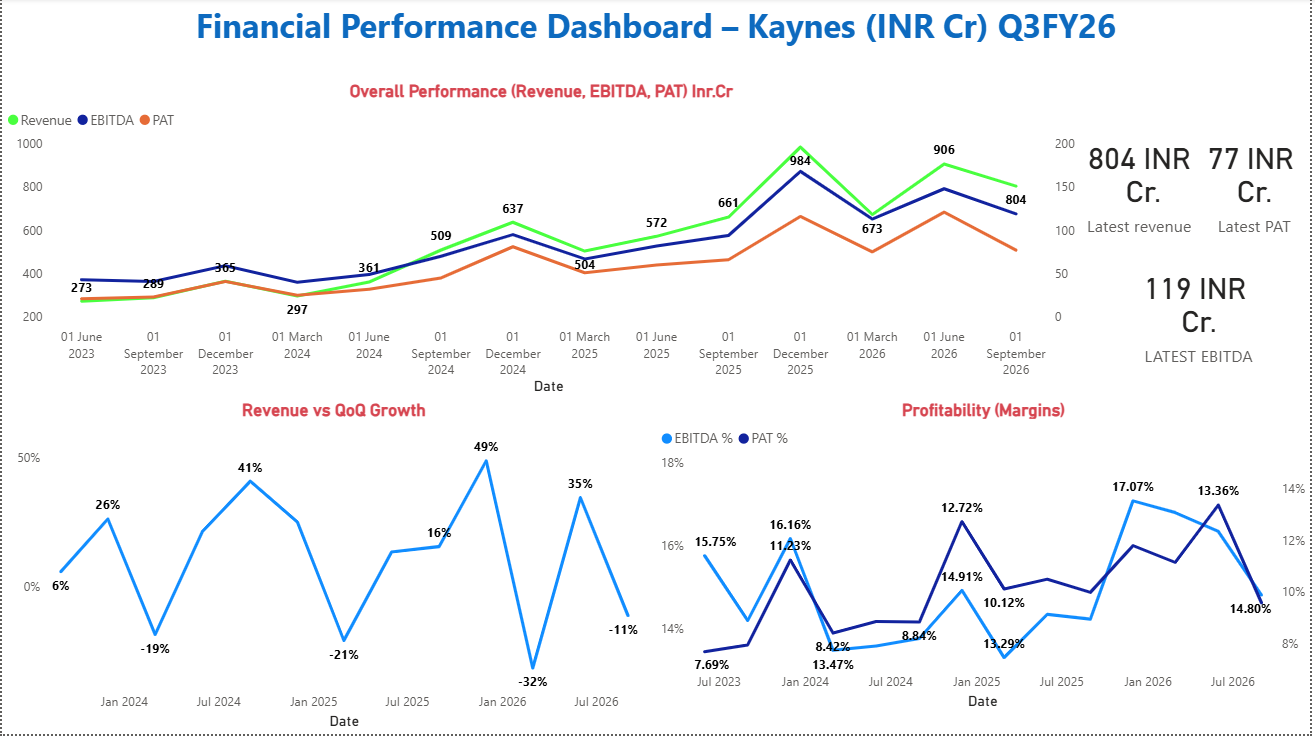

The page's visual inventory and layout, read from the dashboard file:
{"tool":"powerbi","page":{"name":"Quarterly","canvas":[1280,720],"ordinal":0},"visuals":[{"type":"lineChart","title":"Overall Performance (Revenue, EBITDA, PAT) Inr.Cr","fields":{"Y":["Result.Revenue"],"Y2":["Result.EBITDA","Result.PAT"],"Category":["Result.Date"]},"box":[0,80.7,1055.3,311.8],"z":0},{"type":"lineChart","title":"Revenue vs QoQ Growth","fields":{"Y":["Result.QoQ %"],"Category":["Result.Date"]},"box":[9.6,392.5,629.8,328],"z":1000},{"type":"lineChart","title":"Profitability (Margins)","fields":{"Y":["Result.EBITDA %"],"Category":["Result.Date"],"Y2":["Result.PAT %"]},"box":[639.5,392.5,640.8,308.2],"z":5000},{"type":"textbox","box":[152.9,0,973.4,66],"z":6000},{"type":"card","fields":{"Values":["Result.Latest revenue"]},"box":[1055.3,118.6,114.9,127.2],"z":6001},{"type":"card","fields":{"Values":["Result.Latest PAT"]},"box":[1170.3,118.6,110.1,127.2],"z":6002},{"type":"card","fields":{"Values":["Result.LATEST EBITDA"]},"box":[1104.2,245.8,133.3,127.2],"z":6003}]}

Visuals, with their boxes in screenshot pixels (x1, y1, x2, y2), scaled from the page's 1280x720 canvas onto the 1315x737 screenshot:
"Overall Performance (Revenue, EBITDA, PAT) Inr.Cr" lineChart: left=0, top=83, right=1084, bottom=402
"Revenue vs QoQ Growth" lineChart: left=10, top=402, right=657, bottom=736
"Profitability (Margins)" lineChart: left=657, top=402, right=1314, bottom=717
textbox: left=157, top=0, right=1157, bottom=68
card - Result.Latest revenue: left=1084, top=121, right=1202, bottom=252
card - Result.Latest PAT: left=1202, top=121, right=1314, bottom=252
card - Result.LATEST EBITDA: left=1134, top=252, right=1271, bottom=382
